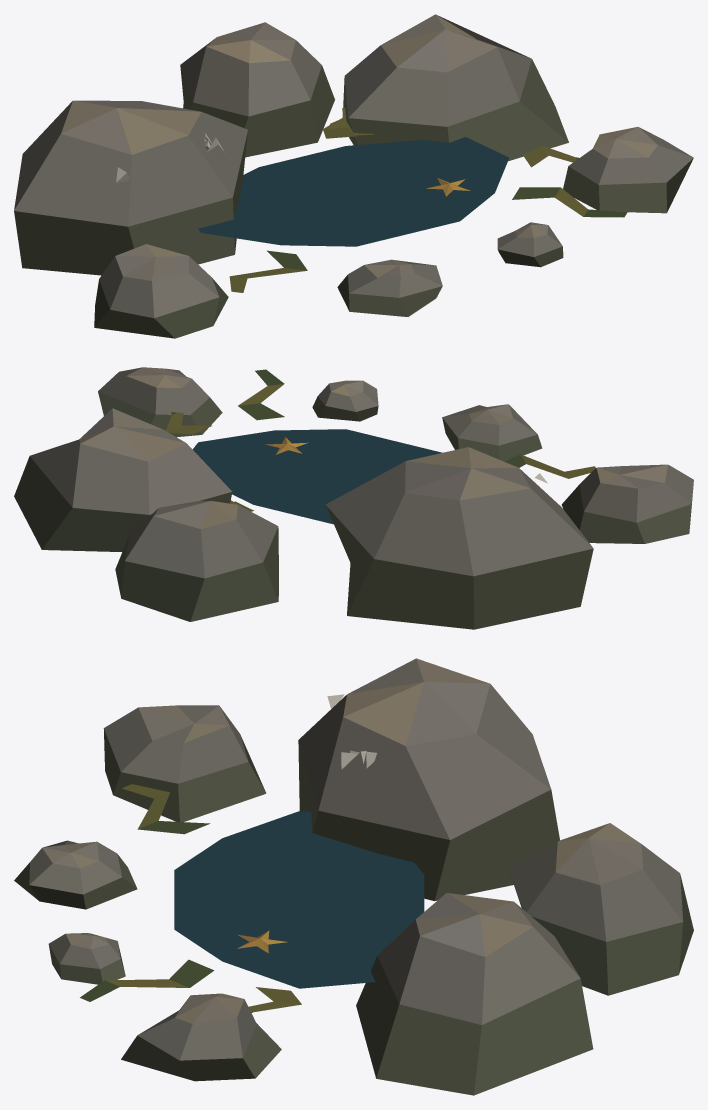
The model's file is wreck_cove_tidepool.glb.
3 renders of one model, top to bottom at view 1: azimuth 30°, elevation 25°; view 2: azimuth 150°, elevation 25°; view 3: azimuth 270°, elevation 25°, orthographic. The views are drawn at different scales.
Visible parts, largest first — view 1: body; view 2: body; view 3: body.
Boxes of the visible parts, x1,y1,x2,y2 form: body: (14,14,693,338); body: (14,367,693,629); body: (14,658,693,1095).
Size of the model in its own units: 6.22 by 1.27 by 5.18.
